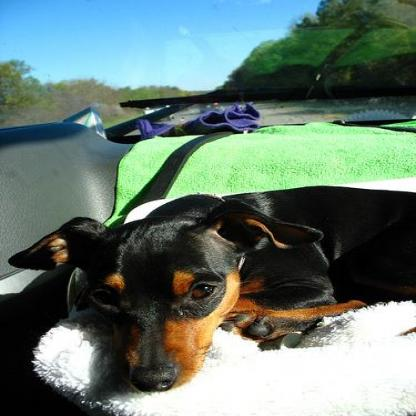miniature_pinscher: (0, 180, 413, 396)
